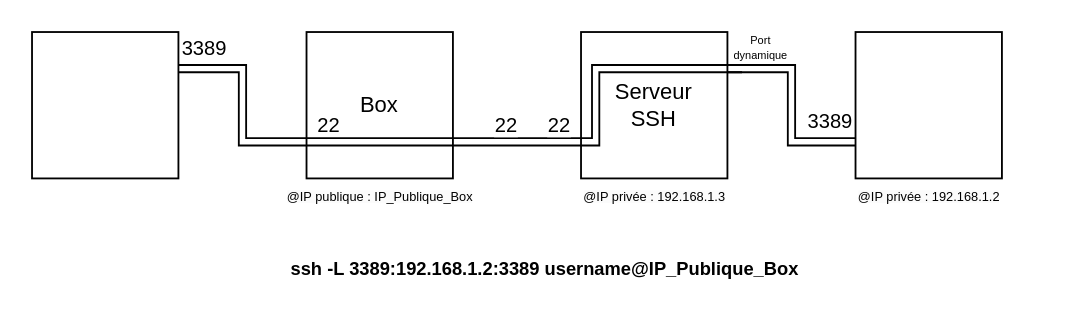
This 1065x328 diagram has some shape labels left out. Each missing label, with the centre of its shape:
"Machine locale" belongs at point (104, 104).
"Machine terminale" belongs at point (928, 104).
